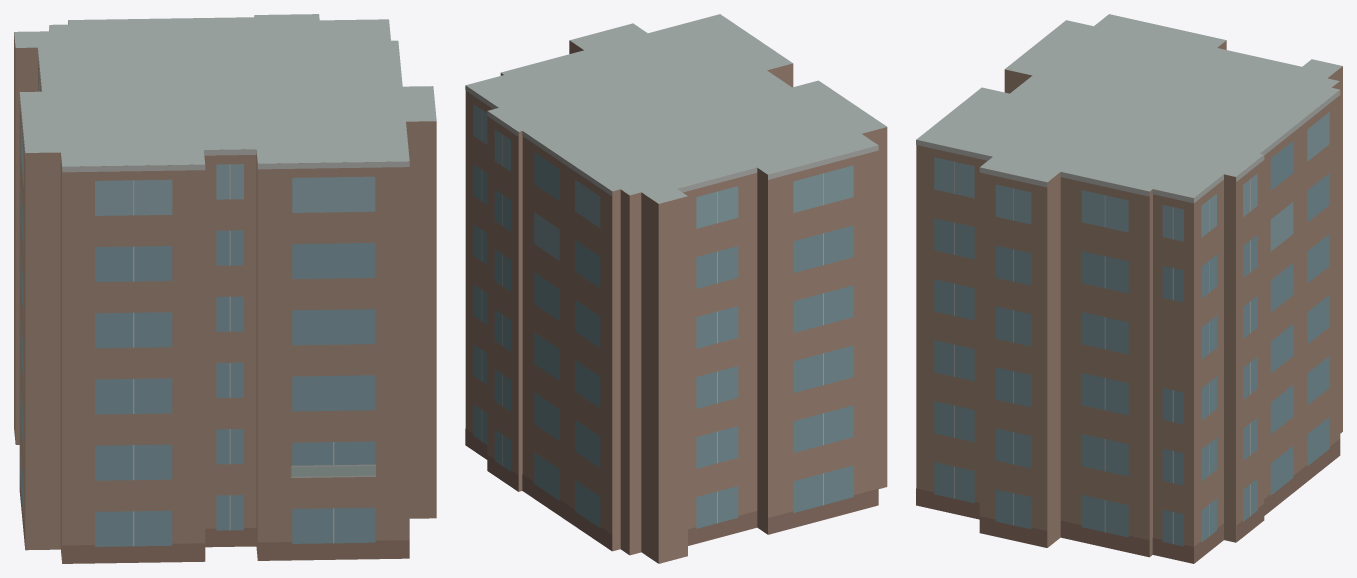
Rendered from survey-upis-32906385.glb.
3 views of the same model, side by side, from view 1: azimuth 30°, elevation 25°; view 2: azimuth 150°, elevation 25°; view 3: azimuth 270°, elevation 25° (orthographic). The views are drawn at different scales.
Parts seen in each view (by area): view 1: survey-upis-32906385.tmp; view 2: survey-upis-32906385.tmp; view 3: survey-upis-32906385.tmp.
Boxes of the visible parts, <box> form: survey-upis-32906385.tmp: <box>14,14,436,563</box>; survey-upis-32906385.tmp: <box>465,14,887,563</box>; survey-upis-32906385.tmp: <box>916,14,1342,563</box>.
Bounding box in the file's own units: 18.58 × 17.2 × 18.19.
